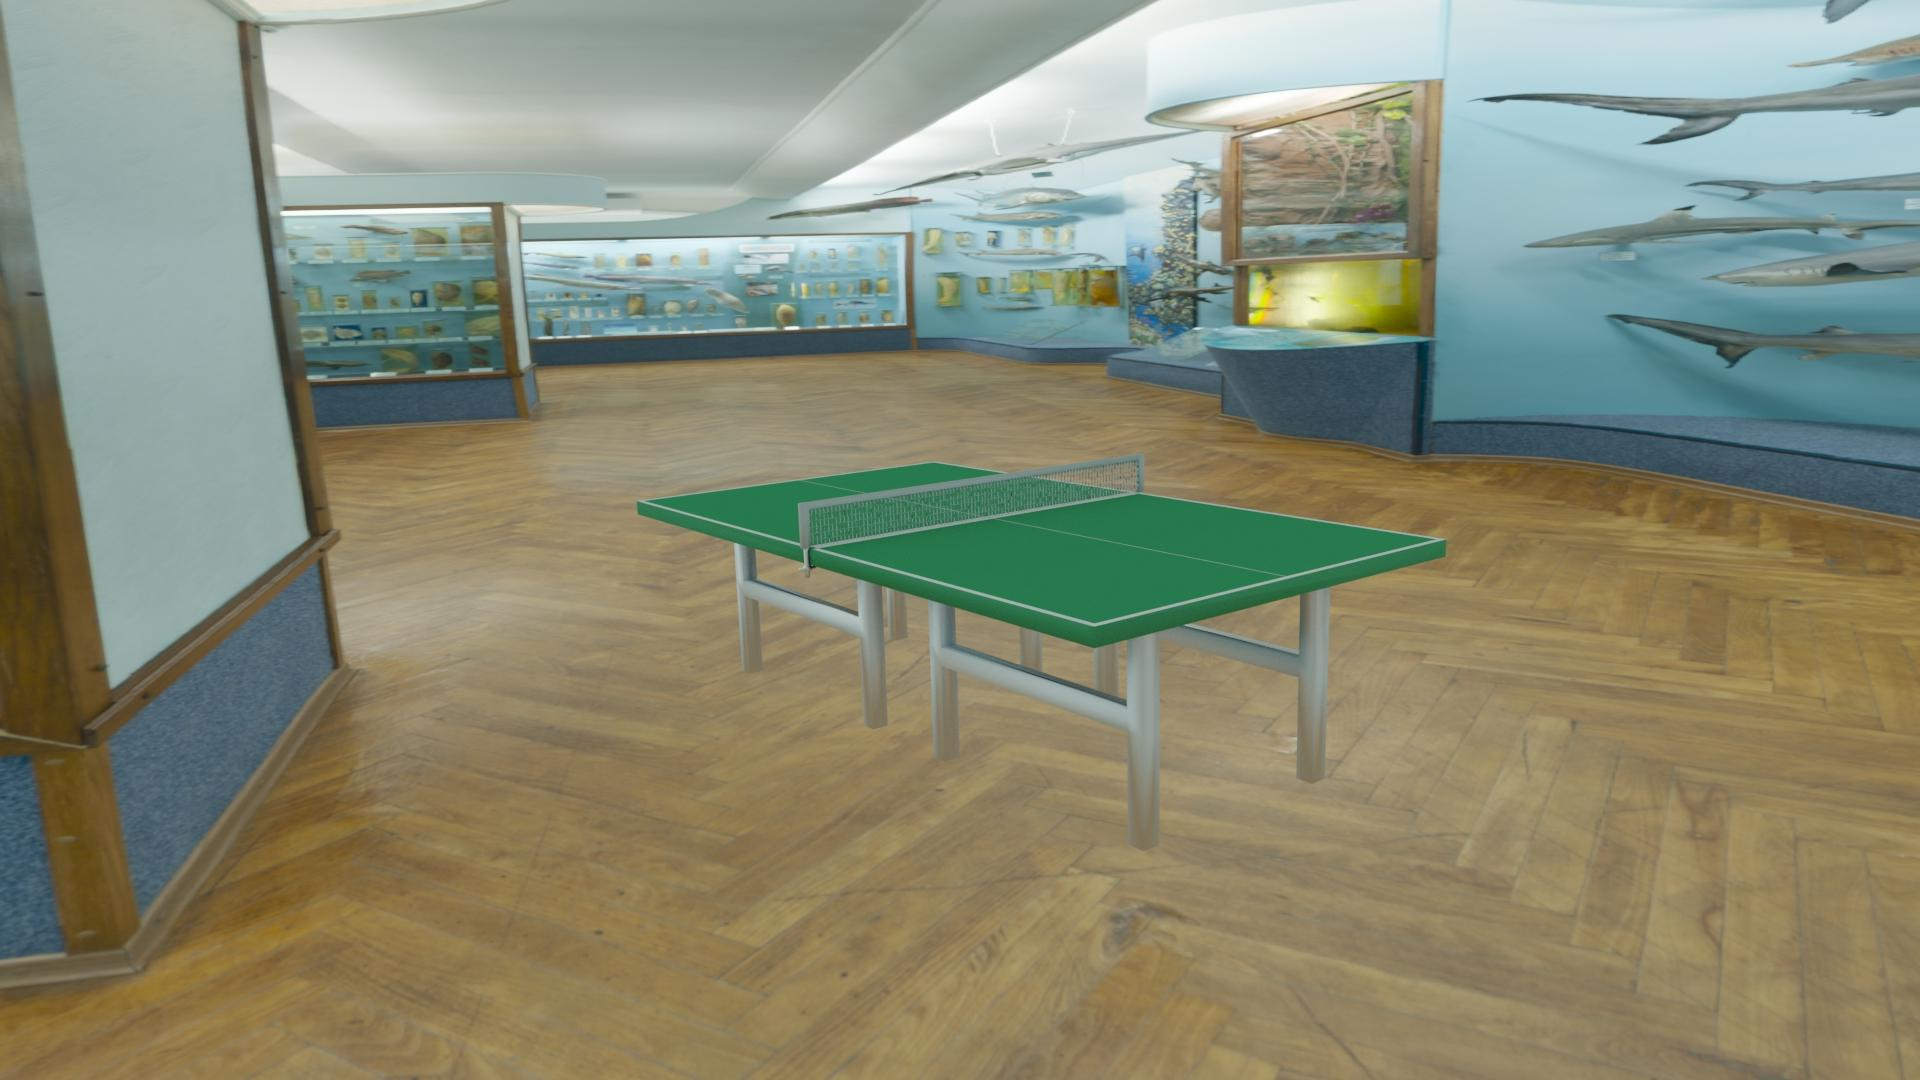table: (644, 463, 1437, 624)
